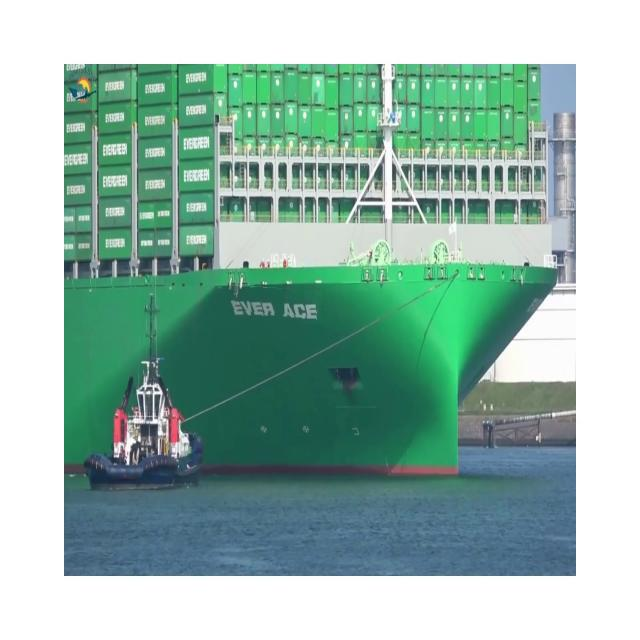OCR: (229, 284, 322, 324)
